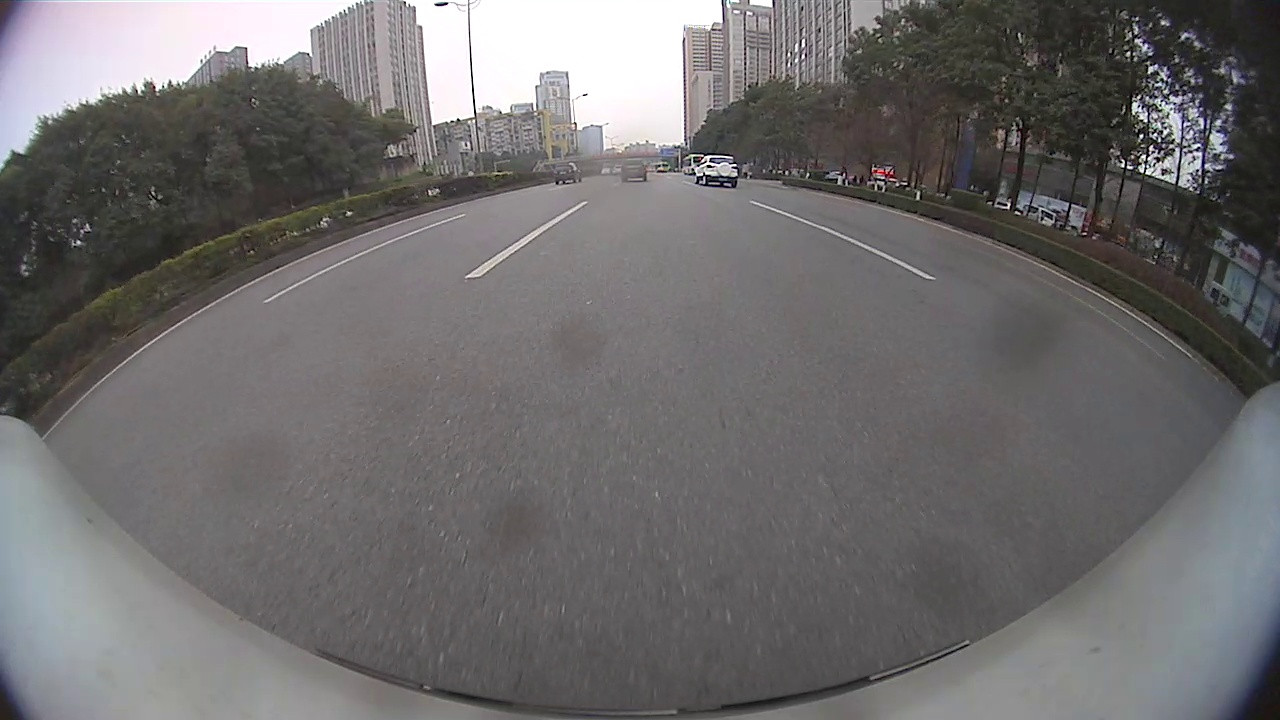bus: (682, 154, 705, 175)
car: (695, 155, 738, 188), (554, 163, 582, 185), (621, 160, 646, 181)
